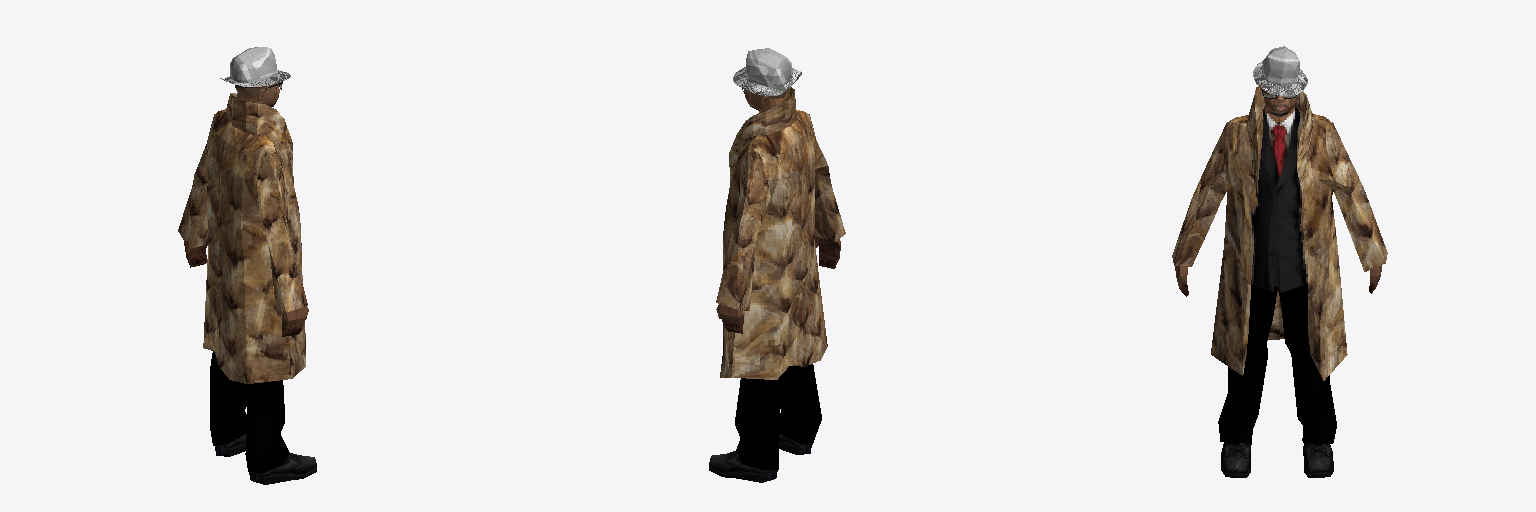
The picture shows the model from 3 angles: view 1: azimuth 30°, elevation 25°; view 2: azimuth 150°, elevation 25°; view 3: azimuth 270°, elevation 25°; orthographic projection.
Visible parts, largest first — view 1: _Pelvis; view 2: _Pelvis; view 3: _Pelvis.
Part boxes in pixels (left/top/right/bottom): _Pelvis: left=178, top=47, right=316, bottom=484; _Pelvis: left=709, top=48, right=845, bottom=482; _Pelvis: left=1172, top=46, right=1387, bottom=477.
Bounding box in the file's own units: 0.376 × 1.88 × 0.8894.
Materials: 2 (2 with a texture image).